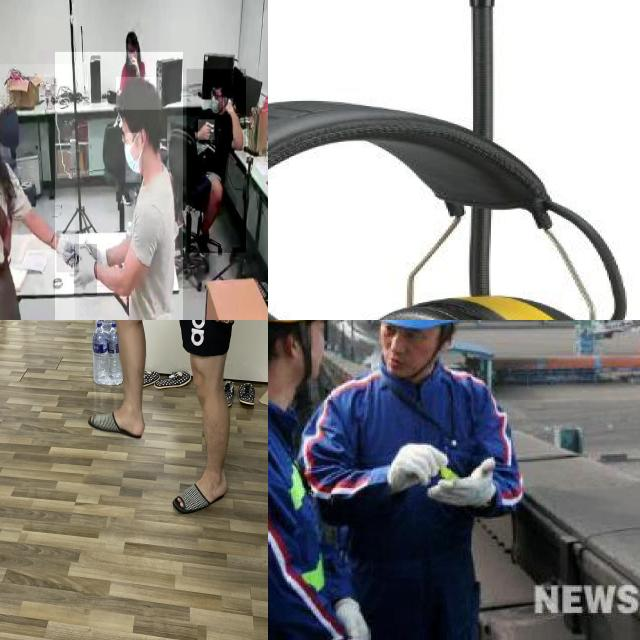Sandals: (171, 466, 238, 514), (88, 393, 146, 441)
face_mask: (125, 132, 142, 182), (208, 91, 222, 127)
face_nomask: (381, 324, 434, 377), (125, 44, 137, 59)
hand_glove: (426, 453, 496, 508), (387, 438, 449, 494), (332, 597, 377, 640), (81, 229, 111, 273), (74, 244, 98, 295), (57, 230, 79, 272)
hand_noglove: (198, 119, 215, 141), (223, 98, 233, 112), (128, 54, 138, 66)
head_nohelmet: (116, 76, 162, 110), (210, 72, 228, 88), (125, 29, 138, 43)
person: (313, 320, 519, 640), (54, 51, 183, 320), (268, 320, 354, 640), (0, 64, 75, 320), (186, 69, 246, 254), (115, 22, 149, 84)
